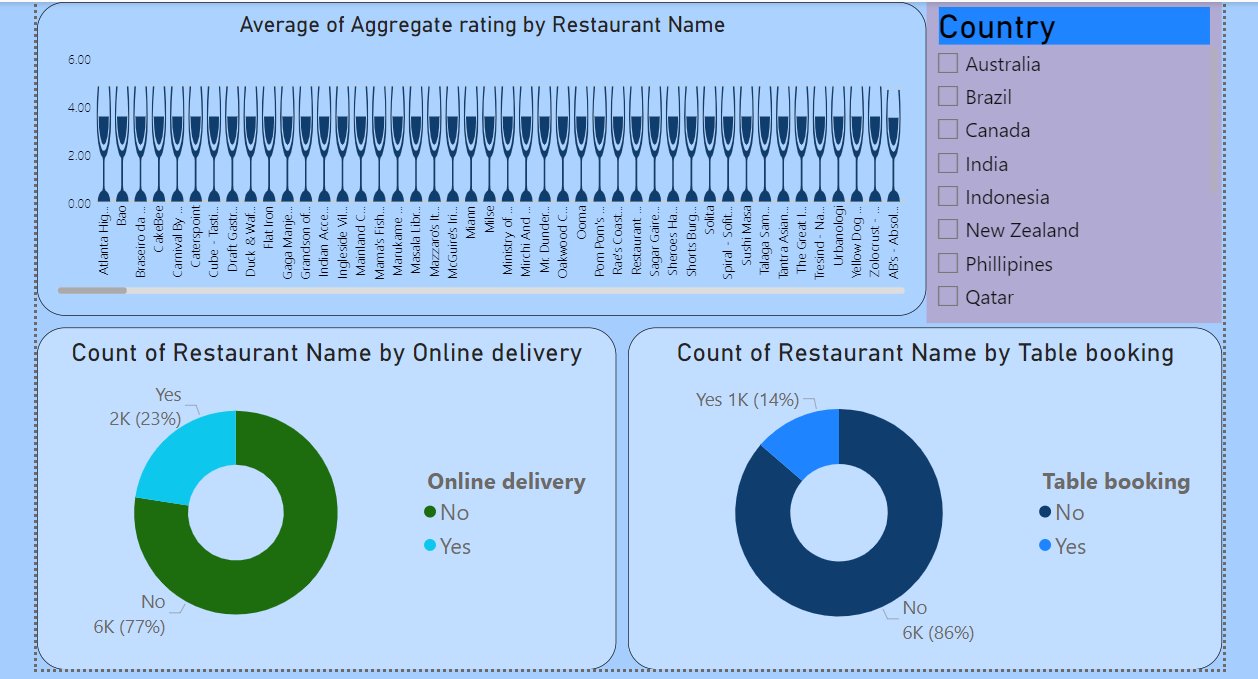

The dashboard page shown, as its layout file describes it:
{"tool":"powerbi","page":{"name":"Page 2","canvas":[1280,720],"ordinal":1},"visuals":[{"type":"donutChart","fields":{"Category":["KPIs.Has Online delivery"],"Y":["Append1.Restaurant Name"]},"box":[0,351.4,625,369.2],"z":0},{"type":"donutChart","fields":{"Category":["KPIs.Has Table booking"],"Y":["Append1.Restaurant Name"]},"box":[638,351.4,641.2,369.2],"z":1000},{"type":"PBI_CV_73744D90_4DC9_4F18_8BA5_EE8FA5C98035","fields":{"Category":["Append1.Restaurant Name"],"Values":["KPIs.Aggregate rating"]},"box":[0,0,960.2,338.4],"z":2000},{"type":"slicer","fields":{"Values":["Country Master.Country"]},"box":[960.2,0,319,346.5],"z":3000}]}

Visuals, with their boxes on the page's 1280x720 design canvas (x1, y1, x2, y2). These are canvas units, not pixel positions in the 1258x679 screenshot, which may show the page scaled, cropped or inside an application window:
donutChart - KPIs.Has Online delivery x Append1.Restaurant Name: box=[0, 351, 625, 721]
donutChart - KPIs.Has Table booking x Append1.Restaurant Name: box=[638, 351, 1279, 721]
PBI_CV_73744D90_4DC9_4F18_8BA5_EE8FA5C98035 - Append1.Restaurant Name x KPIs.Aggregate rating: box=[0, 0, 960, 338]
slicer - Country Master.Country: box=[960, 0, 1279, 346]
